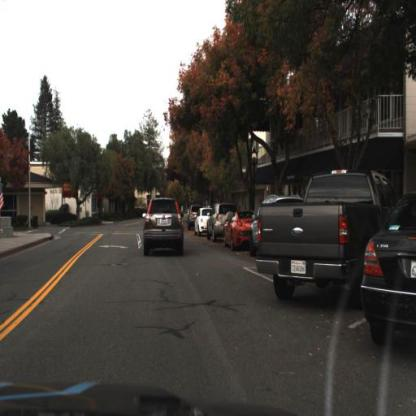car: (252, 163, 358, 308), (359, 186, 415, 349), (138, 193, 186, 260), (218, 208, 254, 252), (204, 198, 226, 244), (192, 205, 211, 239)
